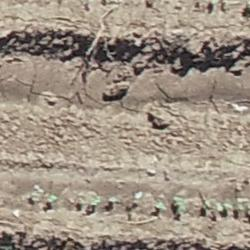cotton: (175, 198, 185, 207), (50, 194, 57, 202), (158, 203, 165, 211), (204, 202, 209, 212), (93, 199, 100, 205), (222, 204, 227, 210), (110, 197, 116, 202), (80, 199, 84, 206)
